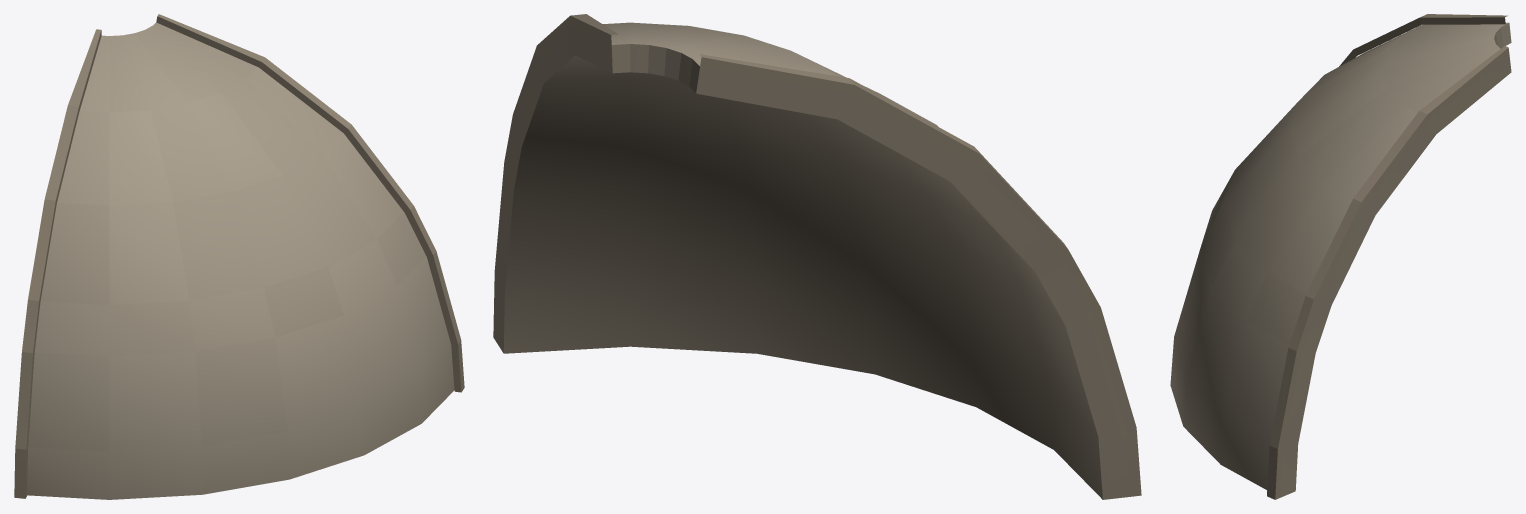
The model's file is dome.panel_4.stone.glb.
The picture shows the model from 3 angles, left to right: view 1: azimuth 30°, elevation 25°; view 2: azimuth 150°, elevation 25°; view 3: azimuth 270°, elevation 25°; orthographic projection. The views are drawn at different scales.
Visible parts, largest first — view 1: dome_panel_4_stone; view 2: dome_panel_4_stone; view 3: dome_panel_4_stone.
Boxes of the visible parts, box(x1,y1,x2,y2) form: dome_panel_4_stone: box(14, 14, 464, 499); dome_panel_4_stone: box(493, 14, 1141, 499); dome_panel_4_stone: box(1170, 14, 1511, 499).
Size of what is drawn, in the model's own units: 5.05 by 3.63 by 3.18.
